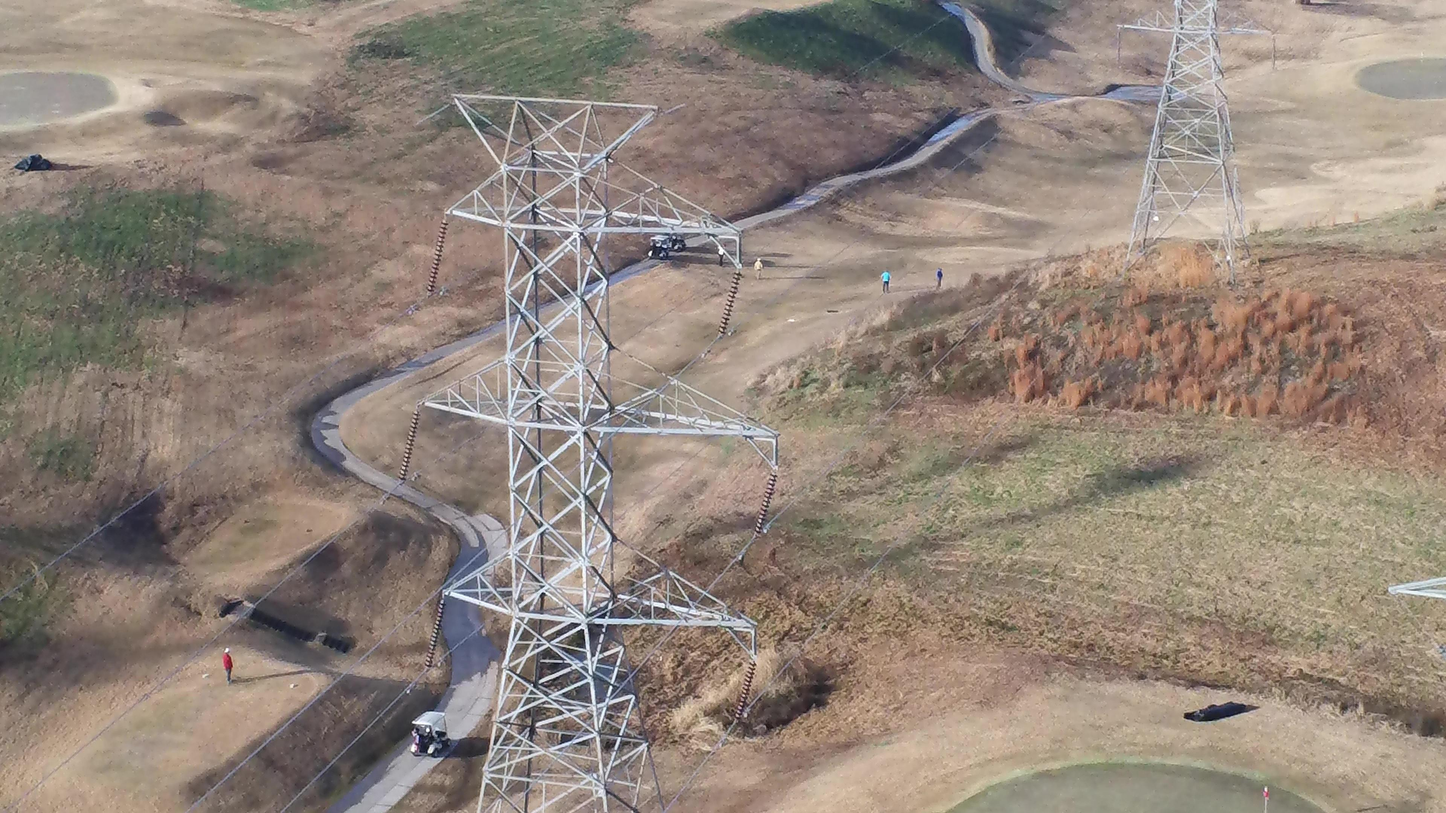power_tower: (392, 96, 786, 813), (1117, 0, 1274, 285)
